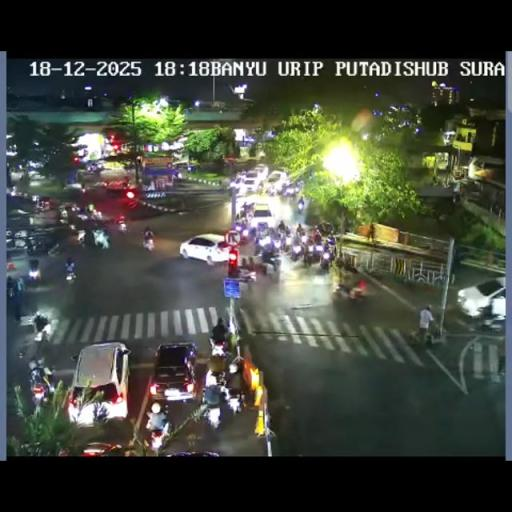Car: (68, 342, 130, 424), (148, 342, 198, 404), (457, 278, 505, 322), (178, 233, 232, 264), (232, 168, 266, 194), (246, 202, 276, 230), (265, 169, 292, 194), (78, 441, 124, 455), (104, 178, 132, 194)
Motorcycle: (241, 218, 334, 269), (206, 342, 231, 384), (201, 386, 224, 426), (144, 418, 170, 452), (6, 275, 25, 319), (30, 374, 48, 406), (409, 323, 434, 346), (259, 249, 280, 276), (225, 386, 243, 416), (32, 312, 50, 342), (230, 265, 257, 285), (210, 318, 228, 344), (350, 278, 368, 302), (332, 281, 352, 301), (92, 228, 110, 249), (26, 237, 46, 254), (27, 264, 42, 286), (304, 248, 322, 266), (233, 221, 249, 241), (316, 220, 334, 236), (343, 256, 358, 273), (65, 263, 77, 284), (290, 244, 304, 262), (319, 250, 331, 270), (34, 198, 50, 213), (257, 232, 272, 248), (142, 234, 154, 252), (270, 230, 282, 248), (280, 237, 292, 253), (334, 254, 346, 270), (292, 230, 303, 246), (76, 210, 90, 222), (116, 218, 127, 233), (248, 226, 258, 242), (367, 222, 375, 242), (76, 229, 86, 244), (238, 209, 248, 224), (90, 208, 102, 220), (326, 234, 336, 248), (59, 206, 69, 220), (452, 190, 461, 203), (297, 199, 305, 213), (206, 252, 214, 266), (278, 220, 286, 233), (283, 226, 291, 238), (10, 185, 18, 196), (297, 178, 304, 190), (31, 194, 39, 204), (80, 183, 86, 194), (176, 170, 182, 180), (301, 234, 307, 243)
